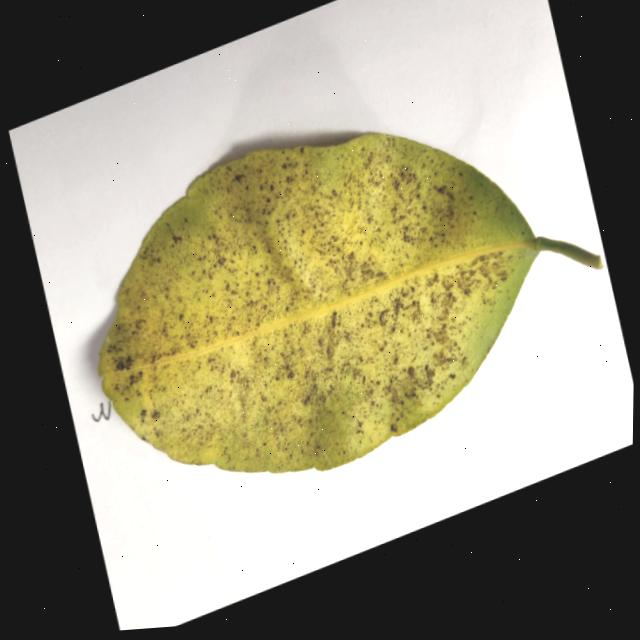melanose: (97, 134, 600, 473)
